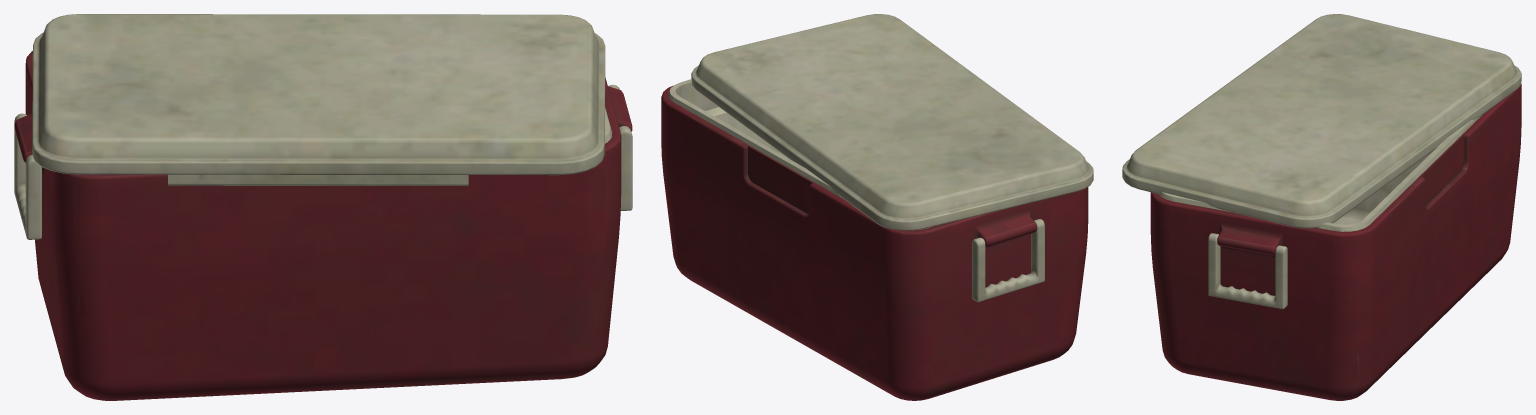
The model's file is ItemSpot.fbx.
3 views of the same model, side by side, from view 1: azimuth 30°, elevation 25°; view 2: azimuth 150°, elevation 25°; view 3: azimuth 270°, elevation 25° (orthographic). The views are drawn at different scales.
Visible parts, largest first — view 1: ItemBox_IceBox; view 2: ItemBox_IceBox; view 3: ItemBox_IceBox.
Boxes of the visible parts, x1,y1,x2,y2 form: ItemBox_IceBox: [14, 14, 632, 400]; ItemBox_IceBox: [661, 14, 1093, 400]; ItemBox_IceBox: [1122, 14, 1521, 400].
Bounding box in the file's own units: 1.11 × 0.5235 × 0.9296.
1 material, 1 textured.
